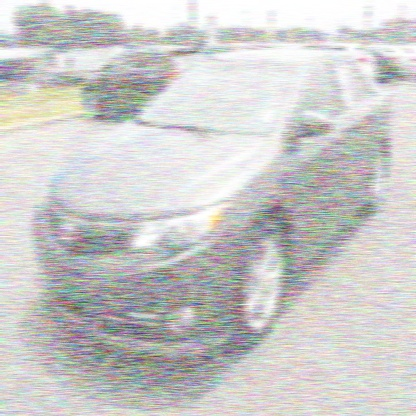Vehicle: (32, 49, 397, 360)
